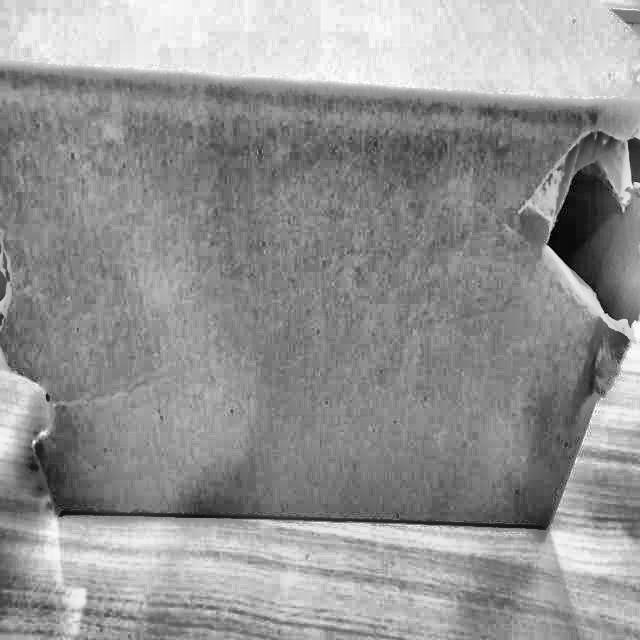box: (0, 0, 639, 538)
hole: (542, 129, 640, 341), (0, 258, 69, 508)
